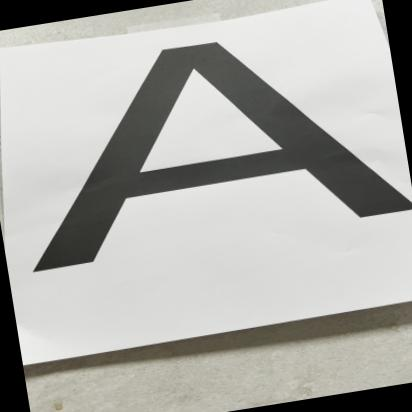seat: (0, 0, 412, 291)
